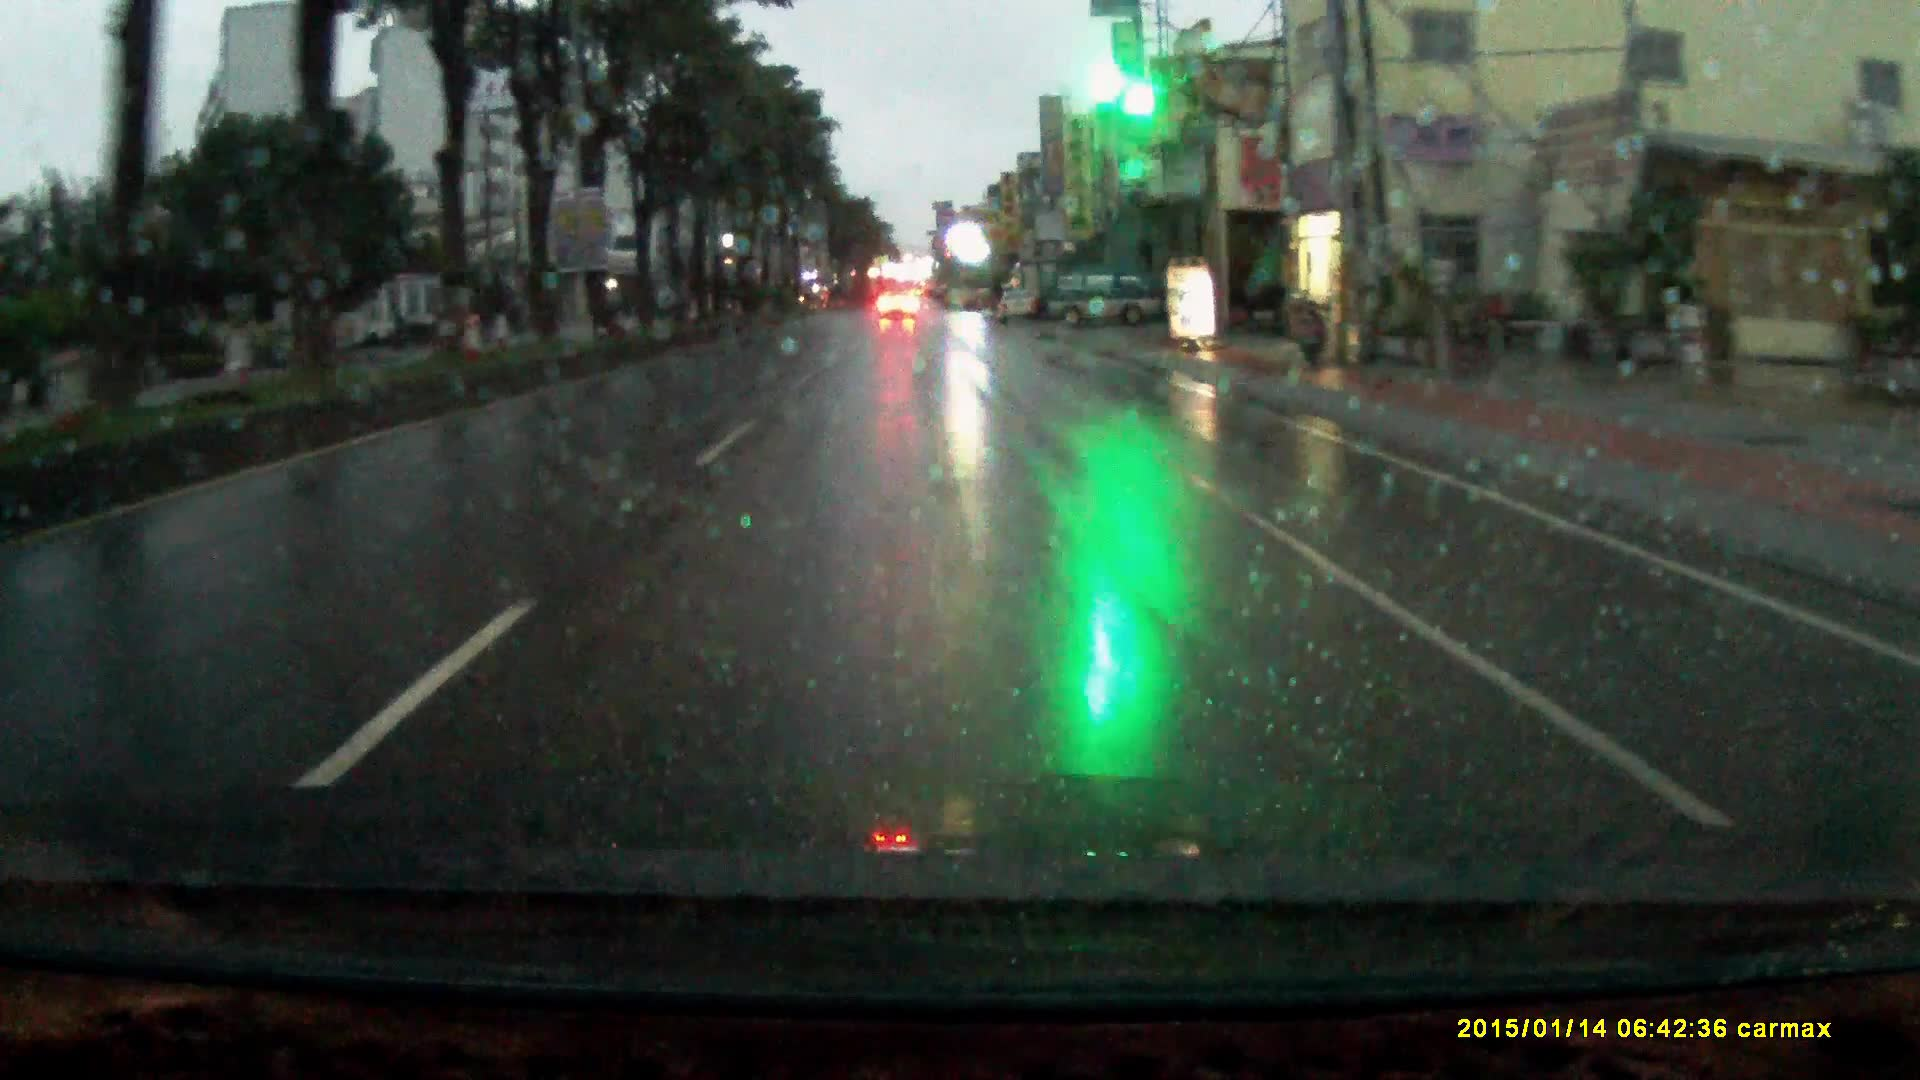vehicle: (1048, 273, 1164, 335), (997, 290, 1040, 326), (877, 289, 920, 322)
